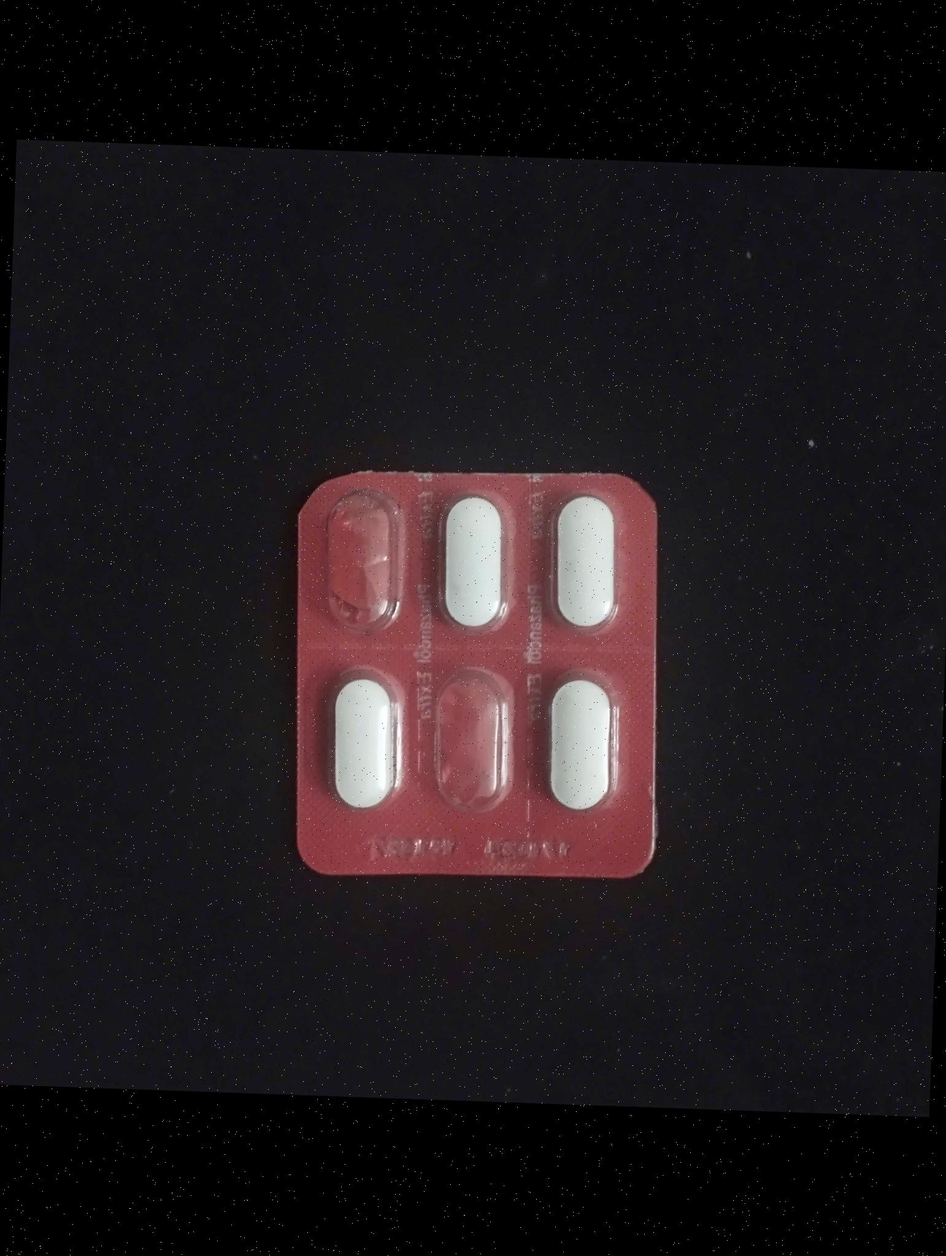Empty: (316, 477, 407, 635), (429, 670, 518, 808)
Full: (546, 486, 625, 635), (542, 678, 621, 814), (329, 666, 400, 816), (434, 495, 512, 631)
